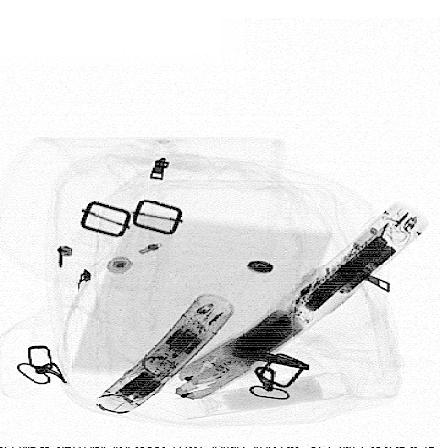Baton: (173, 198, 433, 403), (93, 294, 236, 415)
